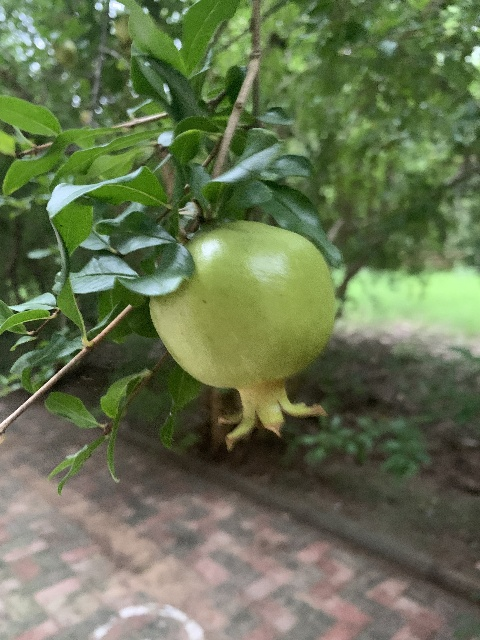mid-growth: (150, 219, 336, 449)
